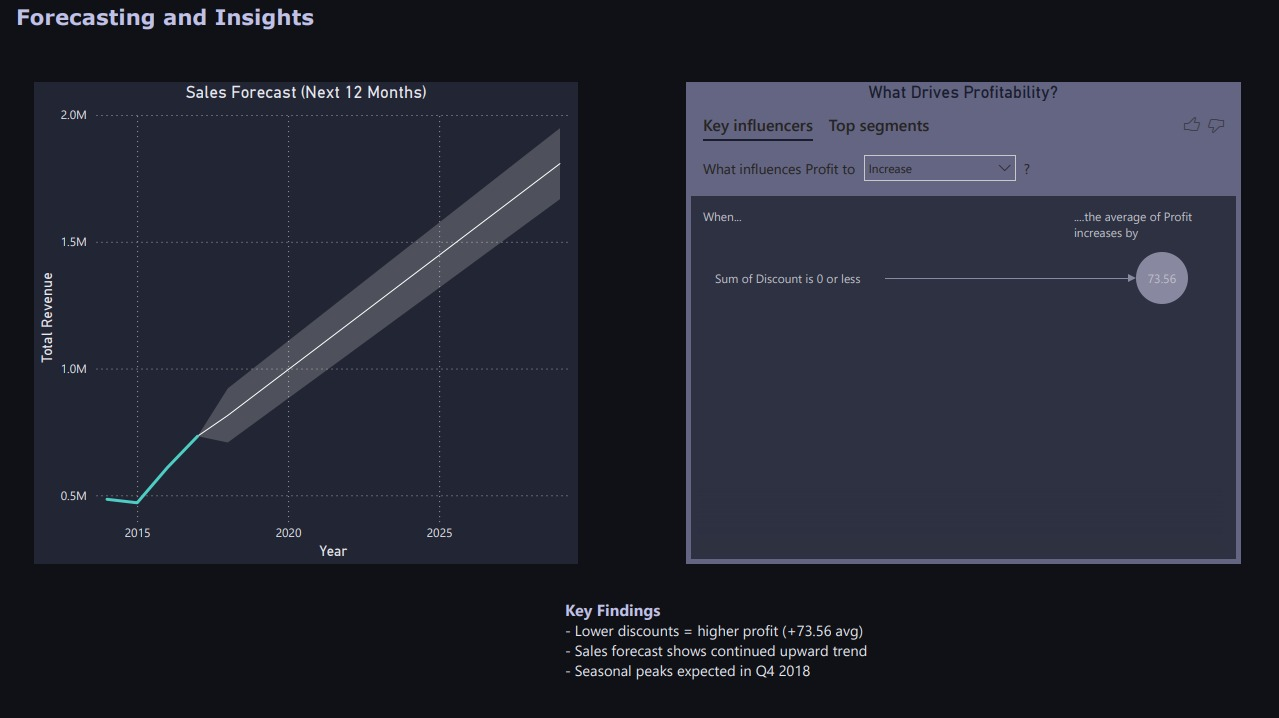

What the dashboard file says about the page in this screenshot:
{"tool":"powerbi","page":{"name":"Forecasting & Insights","canvas":[1280,720],"ordinal":3},"visuals":[{"type":"lineChart","title":"Sales Forecast (Next 12 Months)","fields":{"Category":["Sample - Superstore.Order Date.Variation.Date Hierarchy.Year","Sample - Superstore.Order Date.Variation.Date Hierarchy.Quarter","Sample - Superstore.Order Date.Variation.Date Hierarchy.Month","Sample - Superstore.Order Date.Variation.Date Hierarchy.Day"],"Y":["Sample - Superstore.Total Revenue"]},"box":[34.1,83.4,544,481.4],"z":0},{"type":"keyDriversVisual","title":"What Drives Profitability?","fields":{"Target":["Sample - Superstore.Profit"],"ExplainBy":["Sample - Superstore.Category","Sample - Superstore.Region","Sum(Sample - Superstore.Discount)","Sample - Superstore.Ship Mode","Sample - Superstore.Segment"]},"box":[686.1,83.4,555.3,481.4],"z":1000},{"type":"textbox","box":[559.9,594.9,720.5,106.6],"z":2000},{"type":"textbox","box":[11,0,467,43],"z":3000}]}

Visuals, with their boxes in screenshot pixels (x1, y1, x2, y2), scaled from the page's 1280x720 canvas onto the 1279x718 screenshot:
"Sales Forecast (Next 12 Months)" lineChart: pyautogui.locateOnScreen(34, 83, 578, 563)
"What Drives Profitability?" keyDriversVisual: pyautogui.locateOnScreen(686, 83, 1240, 563)
textbox: pyautogui.locateOnScreen(559, 593, 1278, 700)
textbox: pyautogui.locateOnScreen(11, 0, 478, 43)
